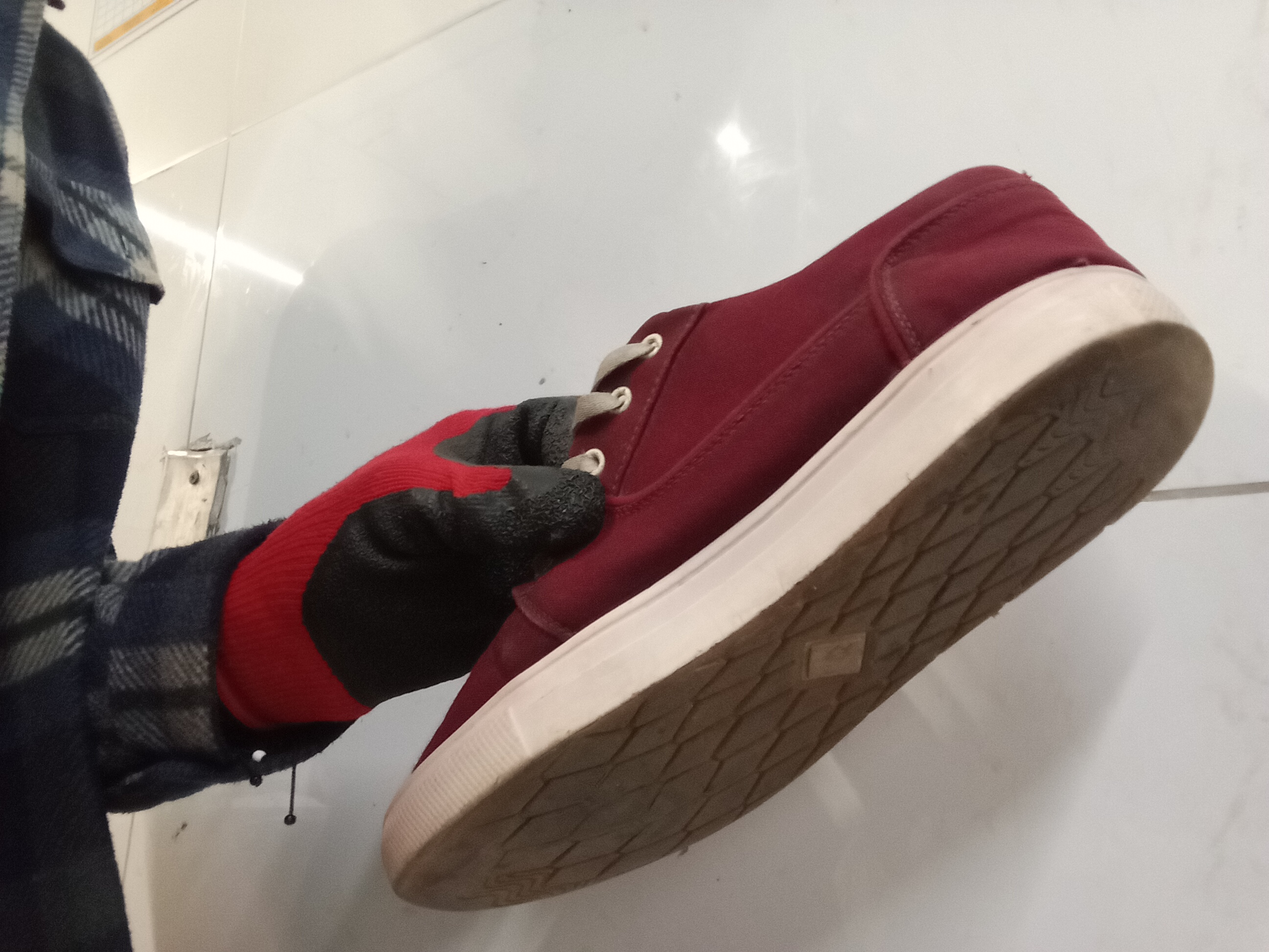Ordinario: (381, 167, 1211, 912)
